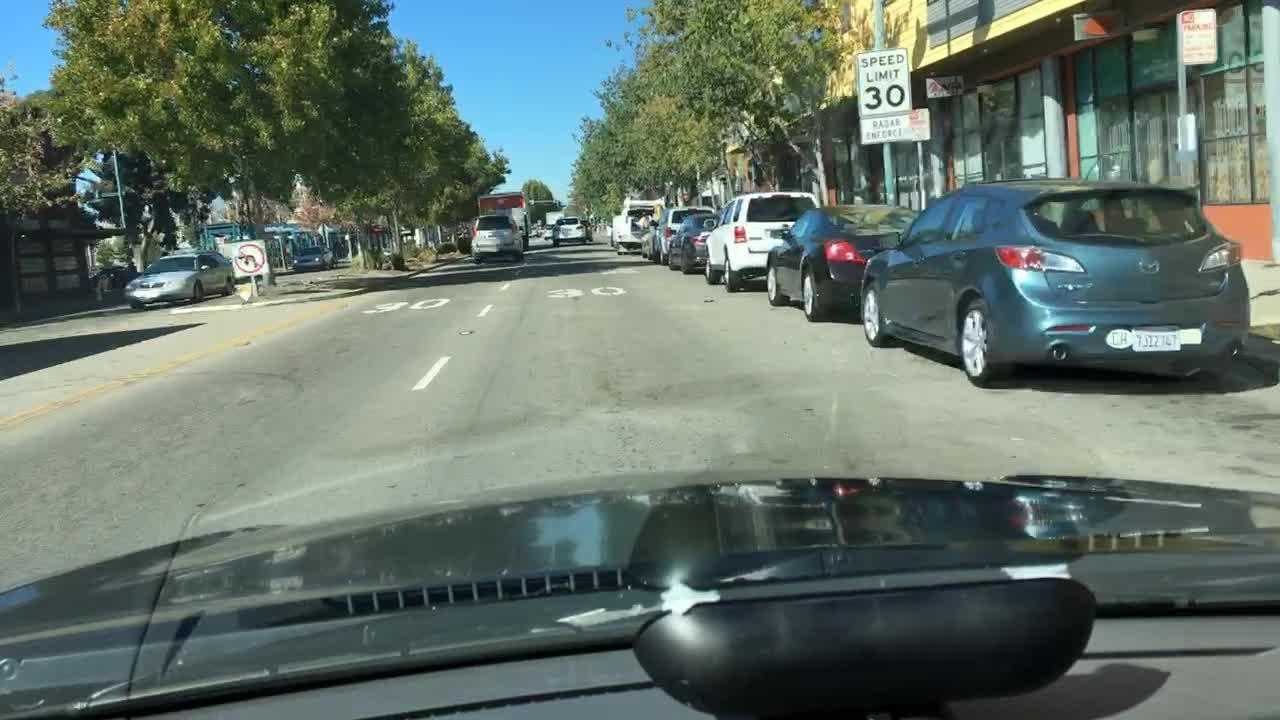Mazda: (1132, 254, 1171, 281)
